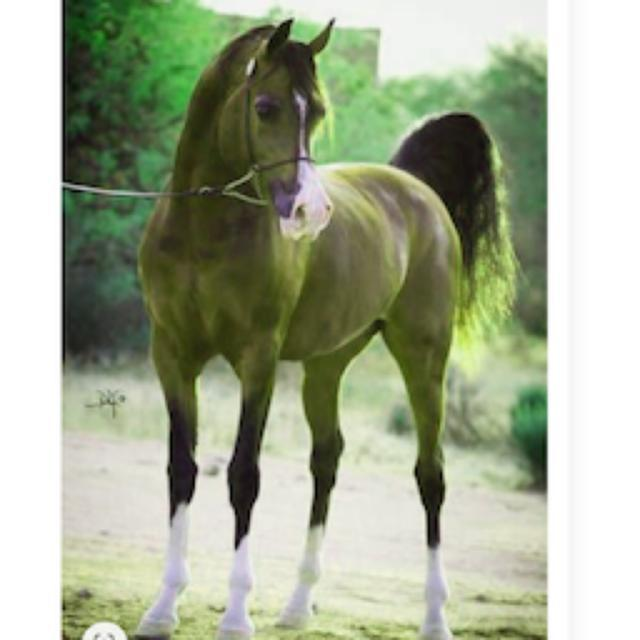Horse: (122, 12, 526, 638)
